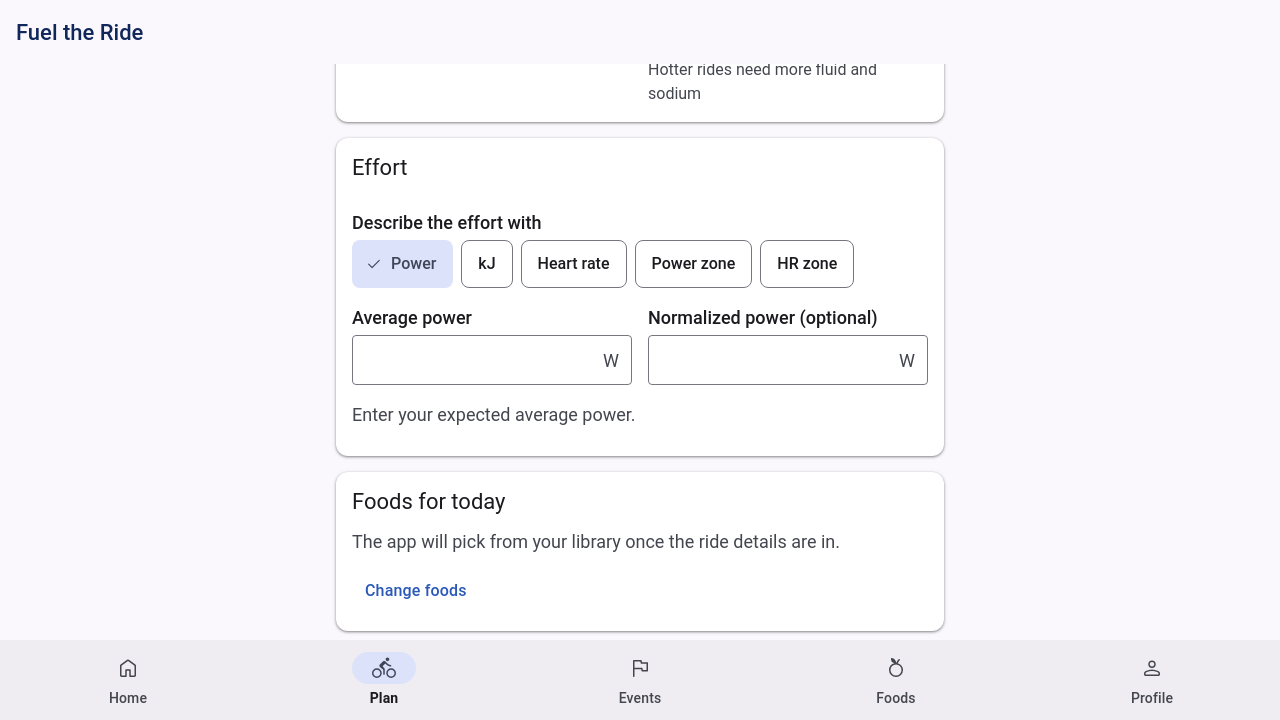
Test: rides like this, while planning › nothing similar → no card
This screenshot has width=1280, height=720.
(page scrolled)
Type "175" into the field labelled "Average power" at x=478, y=360, box [353, 336, 603, 384]
(page scrolled)
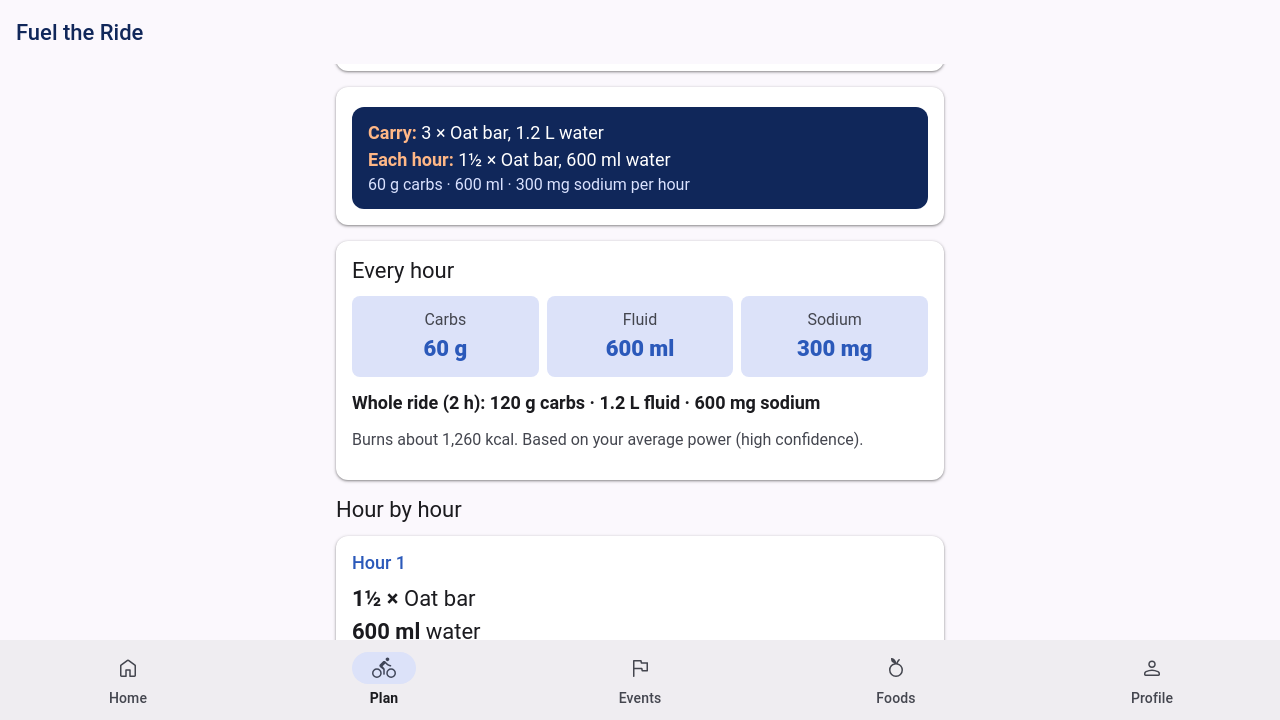
Result: the element "Every hour" is shown at [336, 240, 944, 480]
